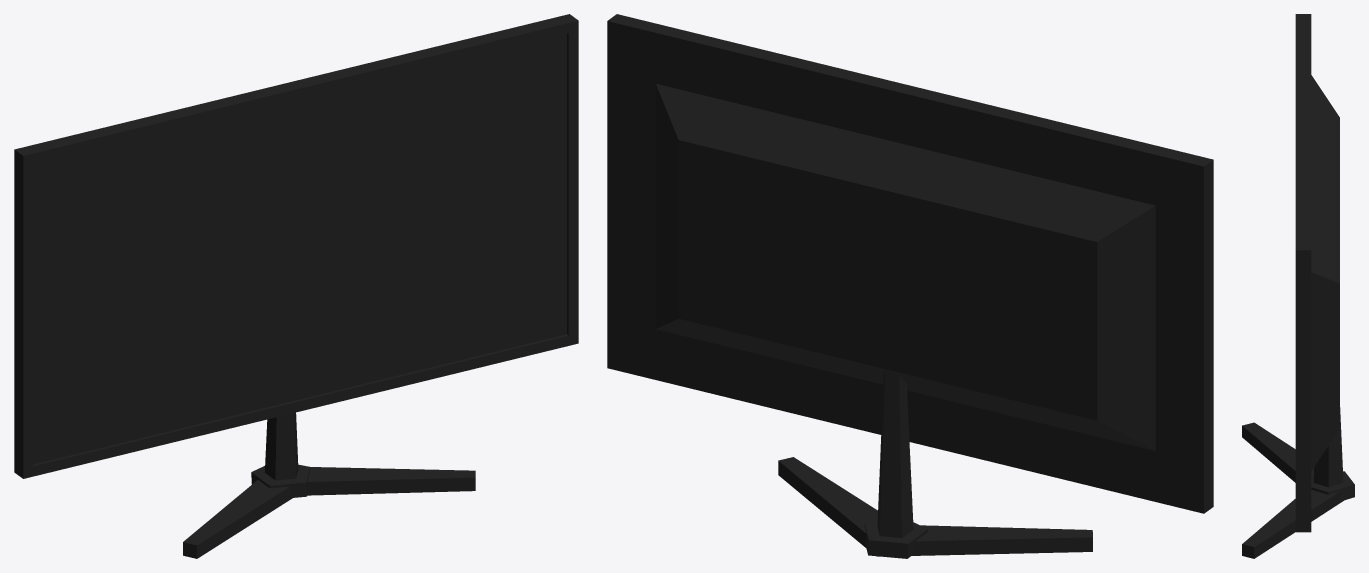
Rendered from SM_monitor_01.fbx.
The picture shows the model from 3 angles, left to right: view 1: azimuth 30°, elevation 25°; view 2: azimuth 150°, elevation 25°; view 3: azimuth 270°, elevation 25°; orthographic projection. The views are drawn at different scales.
Parts seen in each view (by area): view 1: Cylinder001; view 2: Cylinder001; view 3: Cylinder001.
Boxes of the visible parts, x1,y1,x2,y2 form: Cylinder001: (14, 14, 578, 558); Cylinder001: (607, 14, 1213, 558); Cylinder001: (1242, 14, 1354, 558).
Bounding box in the file's own units: 35.18 × 25.15 × 7.09.
